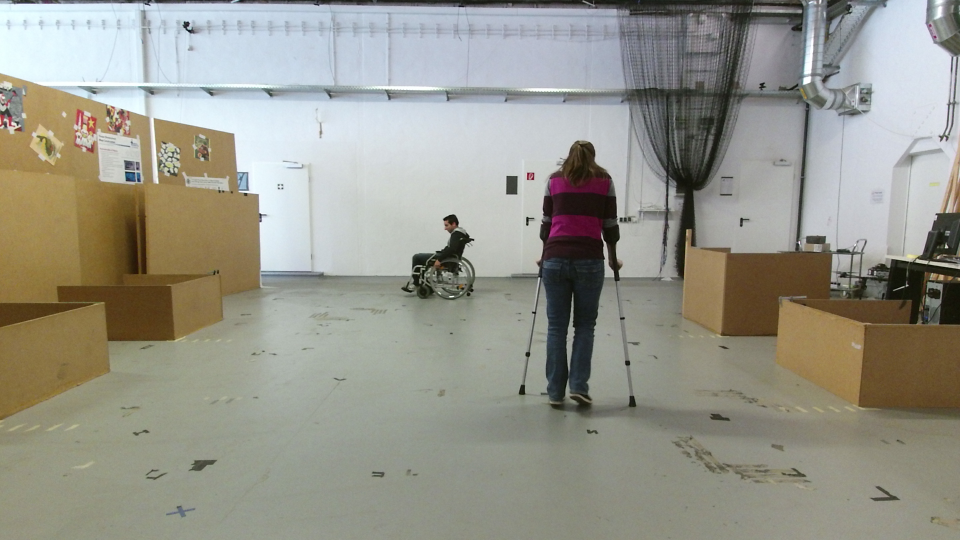crutches: (511, 135, 640, 411)
wheelchair: (397, 209, 478, 300)
